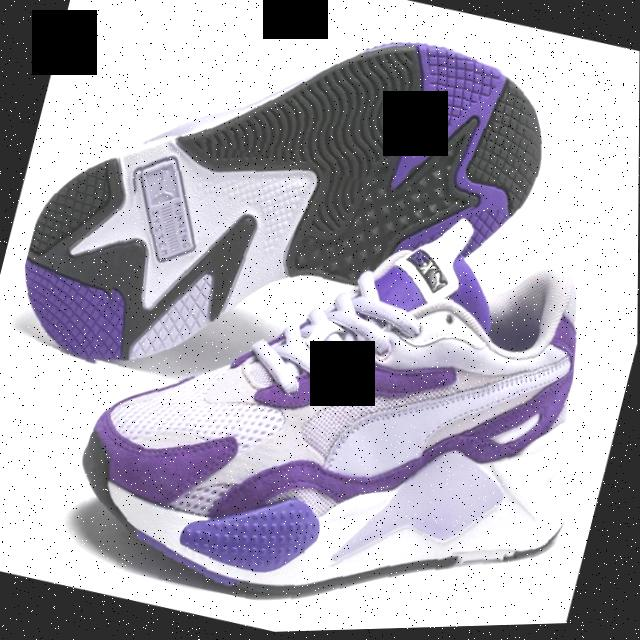shoe: (42, 117, 639, 639), (1, 0, 580, 472)
